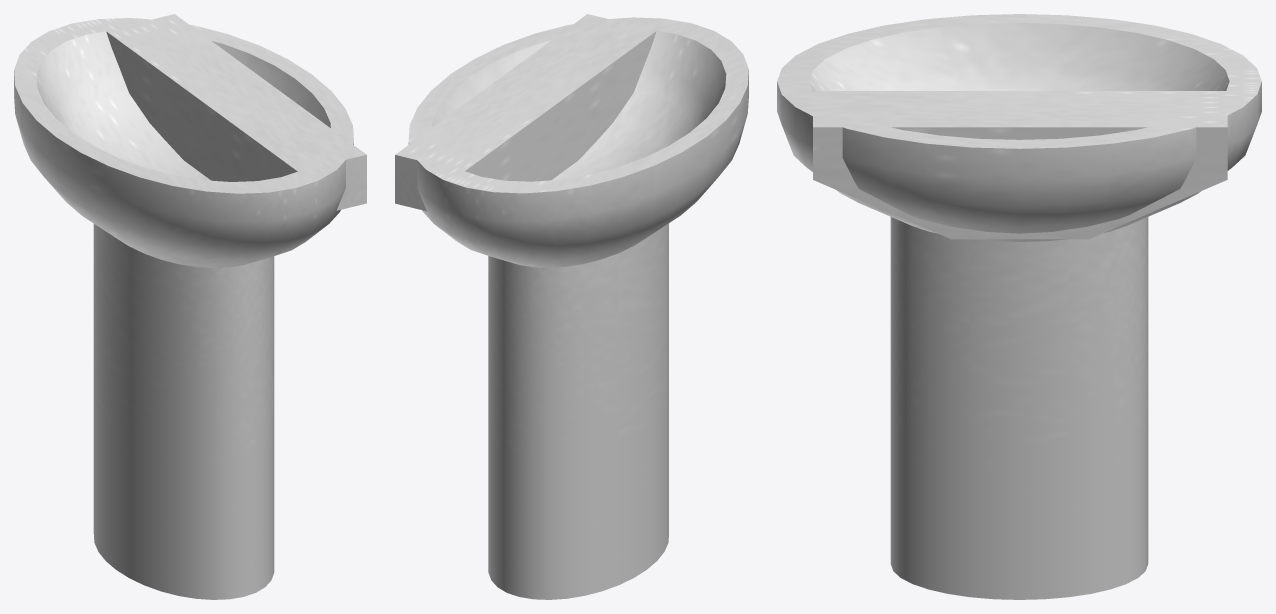
The model's file is Bathroom_Sink.fbx.
3 renders of one model, left to right at view 1: azimuth 30°, elevation 25°; view 2: azimuth 150°, elevation 25°; view 3: azimuth 270°, elevation 25°, orthographic. The views are drawn at different scales.
Visible parts, largest first — view 1: Cube.006; view 2: Cube.006; view 3: Cube.006.
Boxes of the visible parts, box(x1,y1,x2,y2) form: Cube.006: box(14, 14, 366, 599); Cube.006: box(395, 14, 748, 599); Cube.006: box(777, 14, 1261, 599).
Bounding box in the file's own units: 62.48 × 104 × 94.9.
